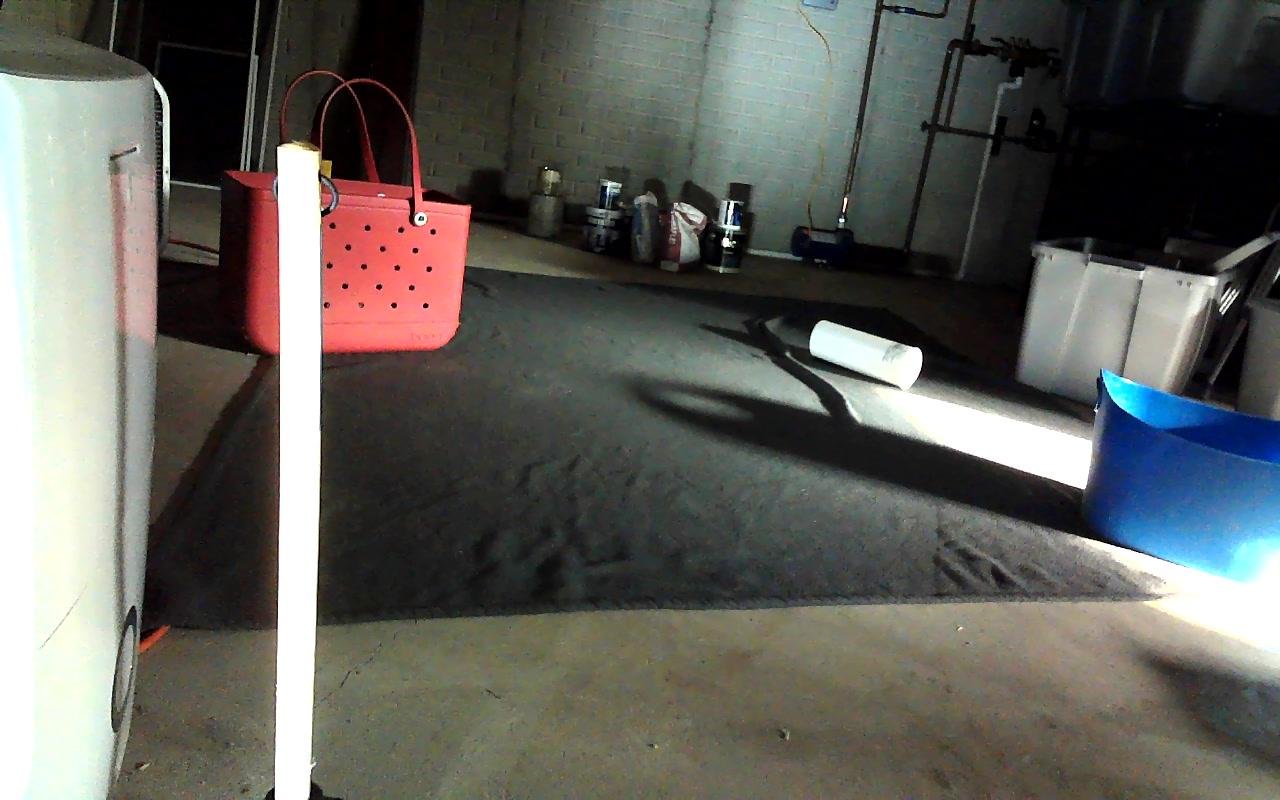coral: (811, 320, 924, 393)
